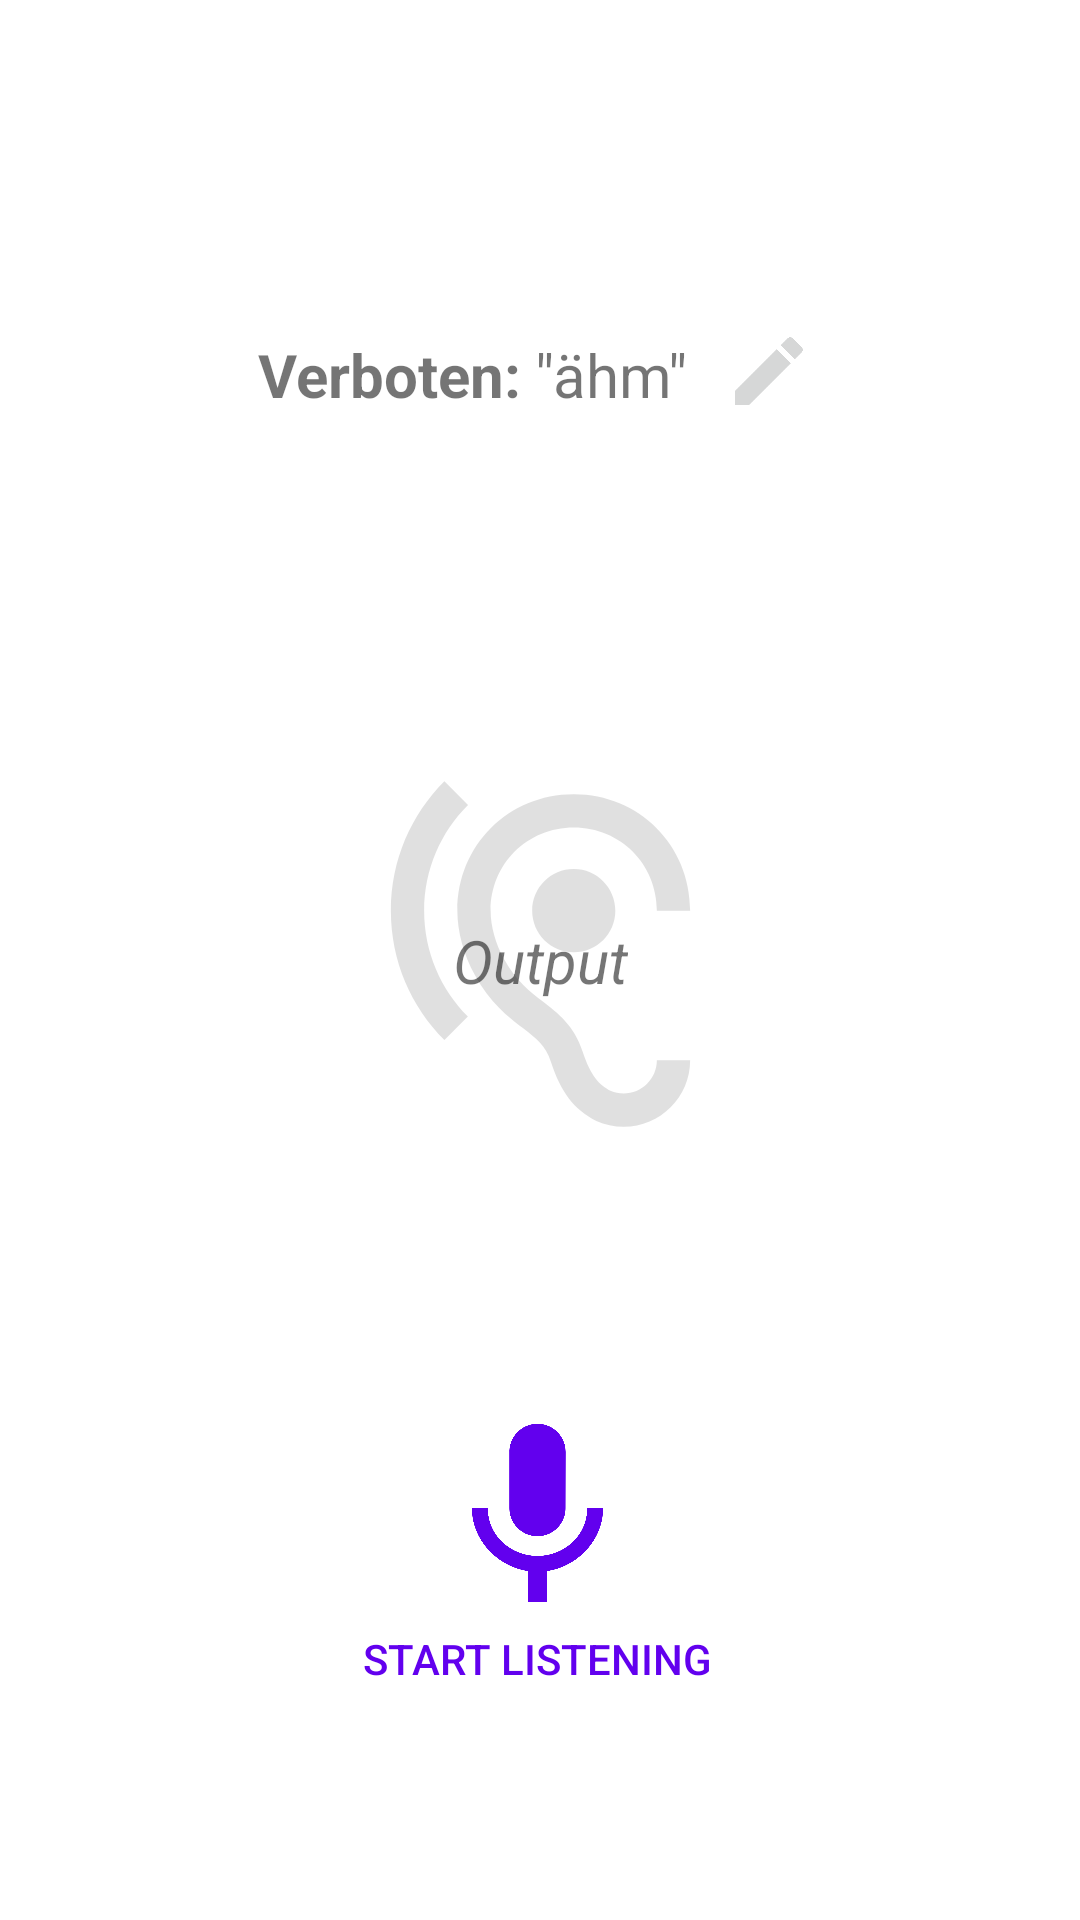

Screen size 1080×1920. Icon name, then its box in pixels as detection(x1, y1, x2, y2):
edit: detection(735, 337, 803, 405)
hearing: detection(391, 782, 690, 1126)
